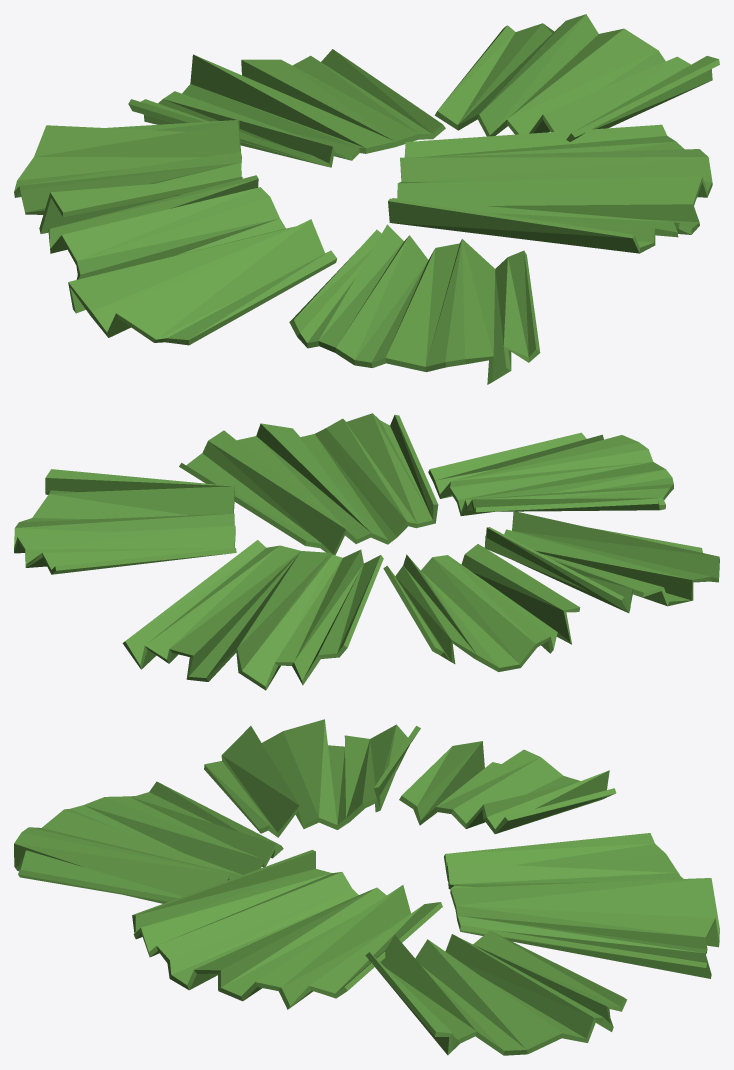
Rendered from Lettuce.glb.
3 renders of one model, top to bottom at view 1: azimuth 30°, elevation 25°; view 2: azimuth 150°, elevation 25°; view 3: azimuth 270°, elevation 25°, orthographic. The views are drawn at different scales.
Visible parts, largest first — view 1: Lettuce; view 2: Lettuce; view 3: Lettuce.
Boxes of the visible parts, x1=… form: Lettuce: x1=14, y1=14, x2=719, y2=384; Lettuce: x1=14, y1=413, x2=719, y2=690; Lettuce: x1=14, y1=719, x2=719, y2=1055.
Size of the model in its own units: 1.79 by 0.2305 by 1.68.
